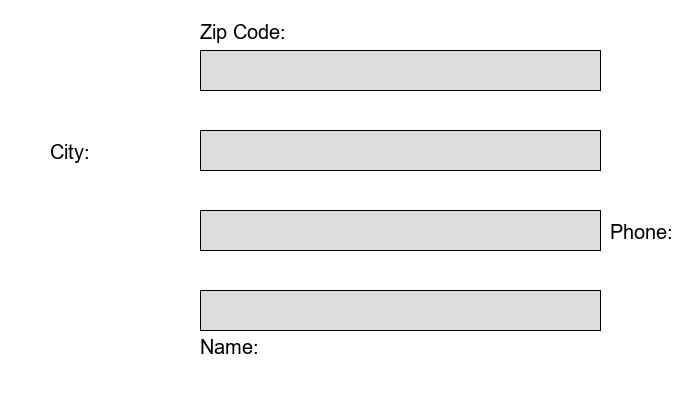Label: (200, 20, 280, 39), (610, 220, 667, 235), (200, 335, 253, 350), (50, 140, 84, 159)
Textbox: (200, 50, 600, 90), (200, 130, 600, 170), (200, 210, 600, 250), (200, 290, 600, 330)
